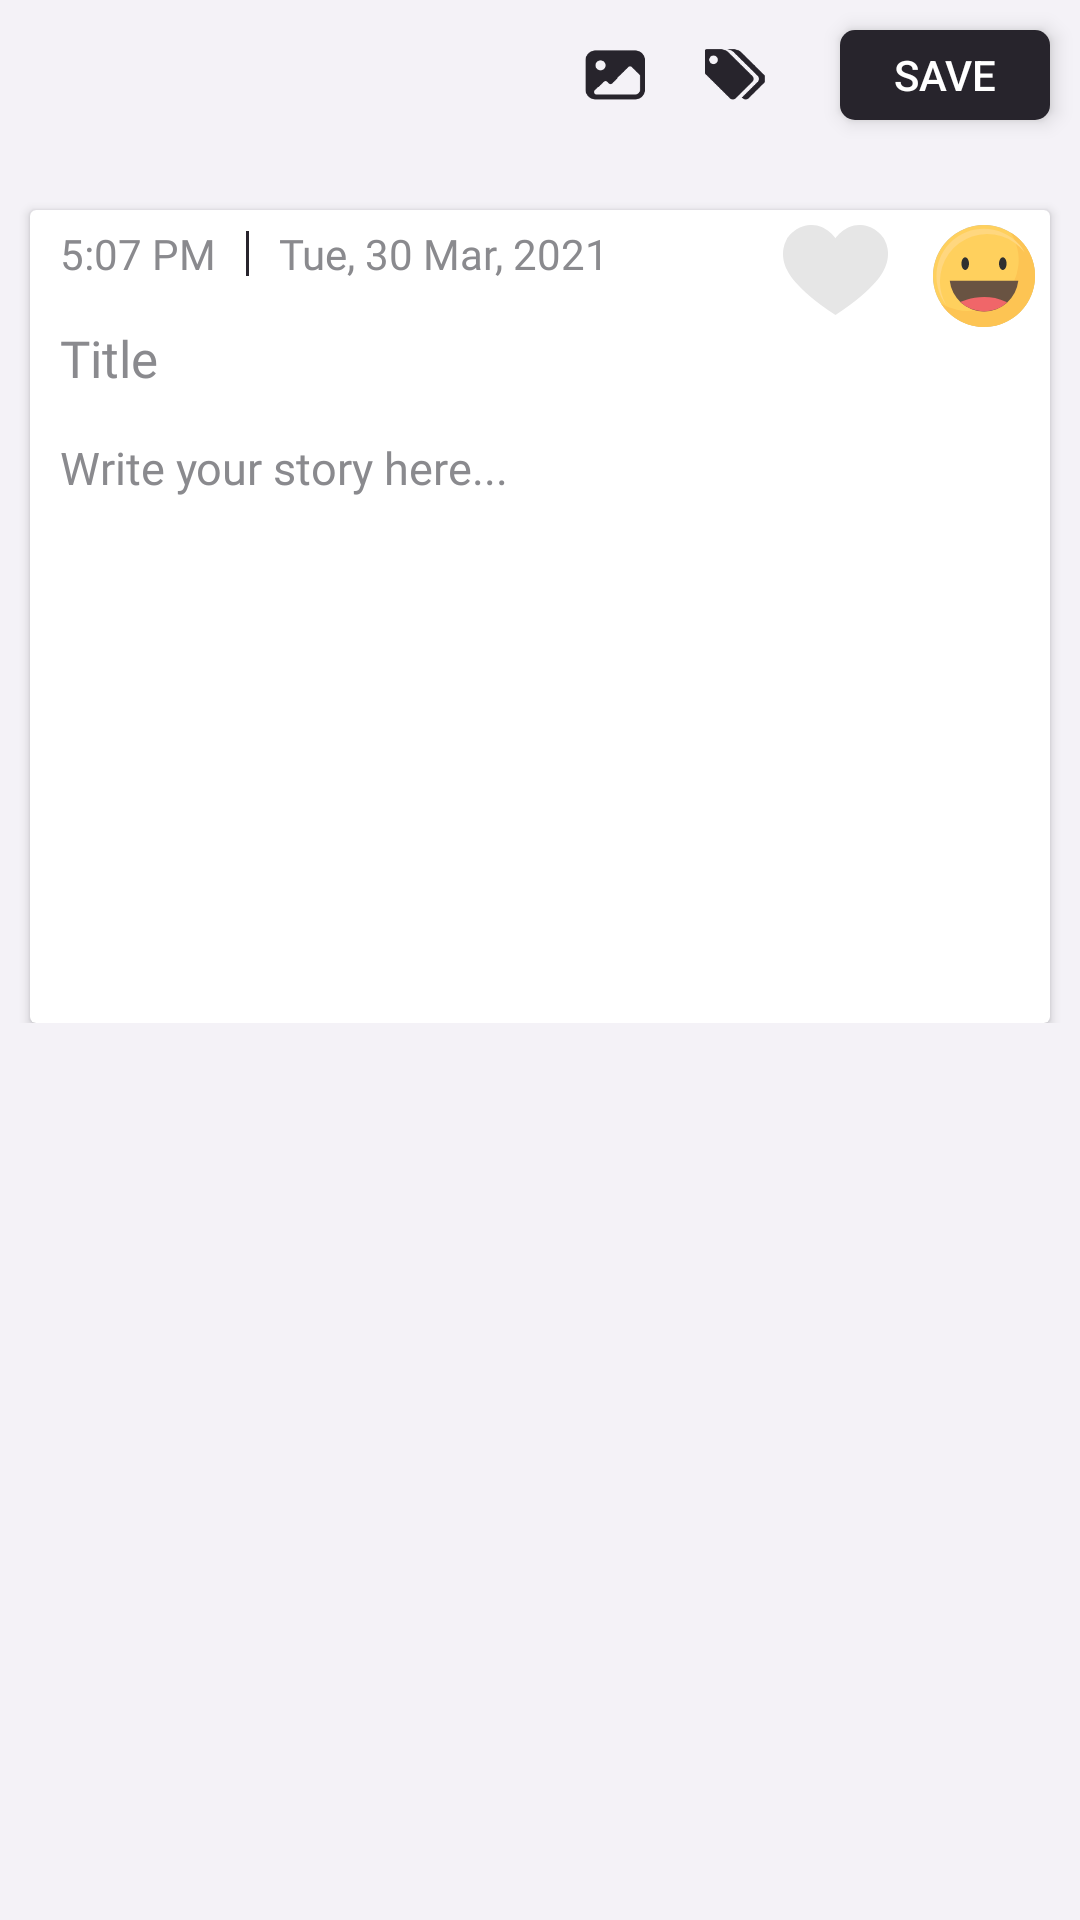

Screen size 1080px×1920px. Icon name, then its center in pixels as (x,y):
happy: (984,276)
heart: (835,269)
tag: (735,74)
